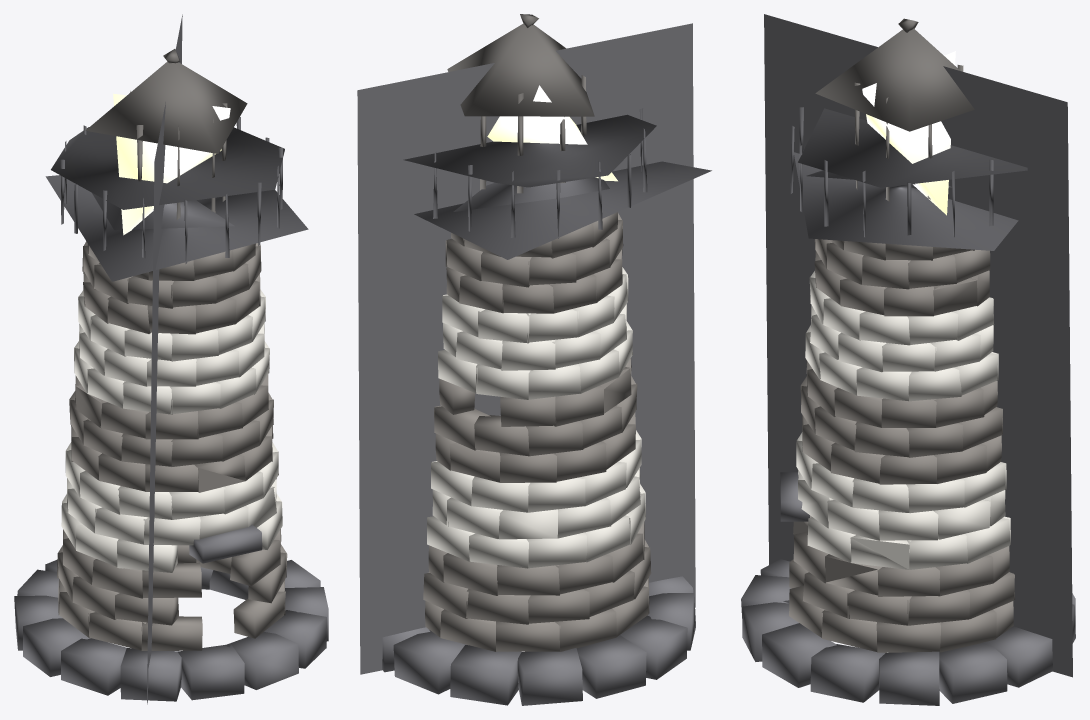
Rendered from poi_small_lighthouse_lods.5e1d02fc.glb.
3 views of the same model, side by side, from view 1: azimuth 30°, elevation 25°; view 2: azimuth 150°, elevation 25°; view 3: azimuth 270°, elevation 25° (orthographic). The views are drawn at different scales.
Visible parts, largest first — view 1: poi_small_lighthouse_far; view 2: poi_small_lighthouse_far; view 3: poi_small_lighthouse_far.
Boxes of the visible parts, left/top/right/bottom form: poi_small_lighthouse_far: left=14, top=14, right=328, bottom=704; poi_small_lighthouse_far: left=357, top=14, right=711, bottom=705; poi_small_lighthouse_far: left=741, top=14, right=1075, bottom=705.
Size of what is drawn, in the model's own units: 5.54 by 11.41 by 5.6.
